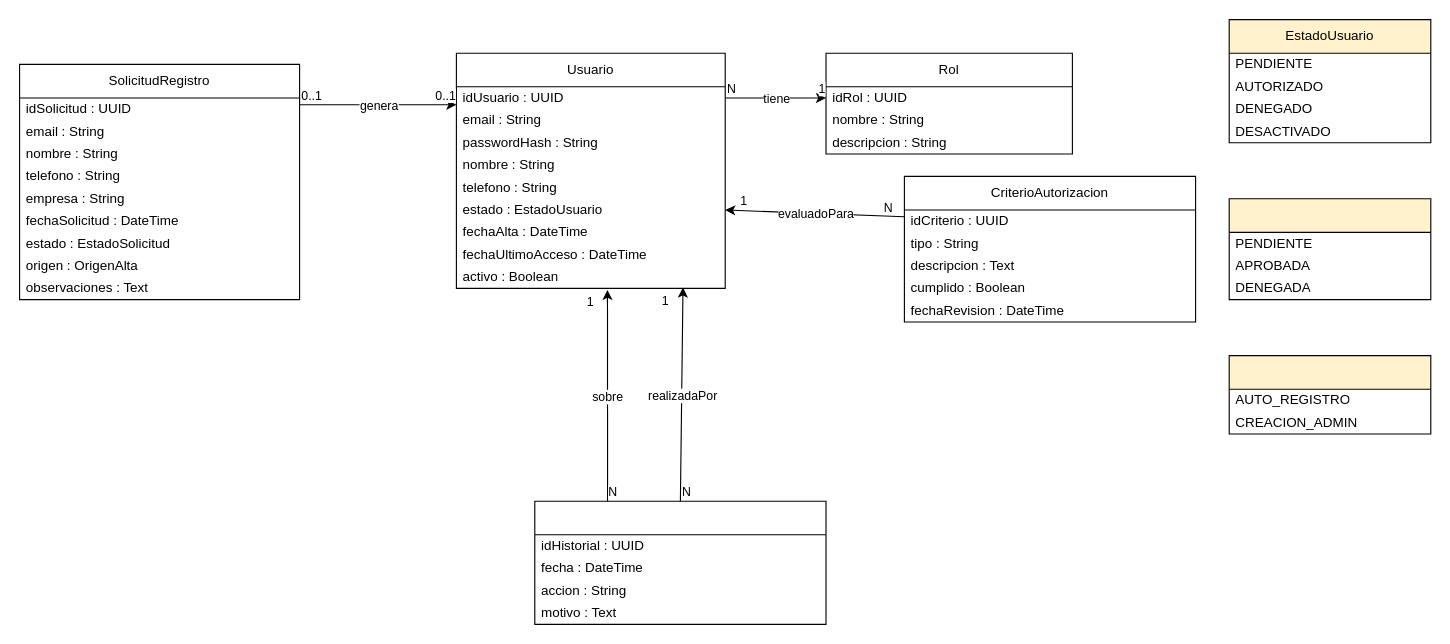
This 1450x644 diagram has some shape labels left out. Each missing label, with the box of its shape:
EstadoSolicitud: (1228, 198, 1431, 300)
HistorialGestionUsuario: (534, 500, 826, 624)
OrigenAlta: (1228, 354, 1431, 434)
